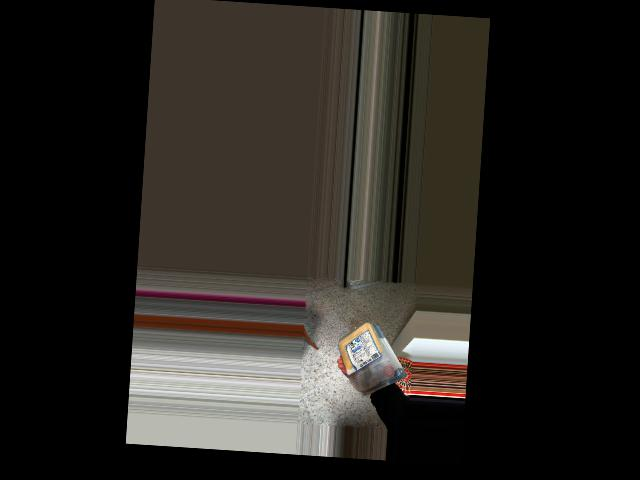cheese: (336, 321, 399, 390)
